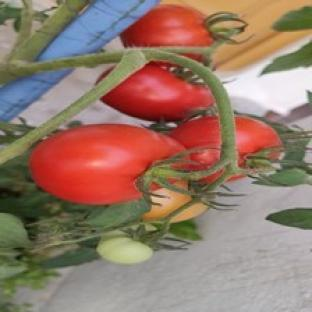Tomato: (30, 124, 183, 204), (102, 65, 214, 121), (120, 5, 214, 47), (169, 116, 221, 169), (97, 234, 153, 264), (143, 189, 192, 221)
